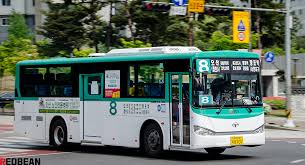bnum: (197, 59, 210, 71)
